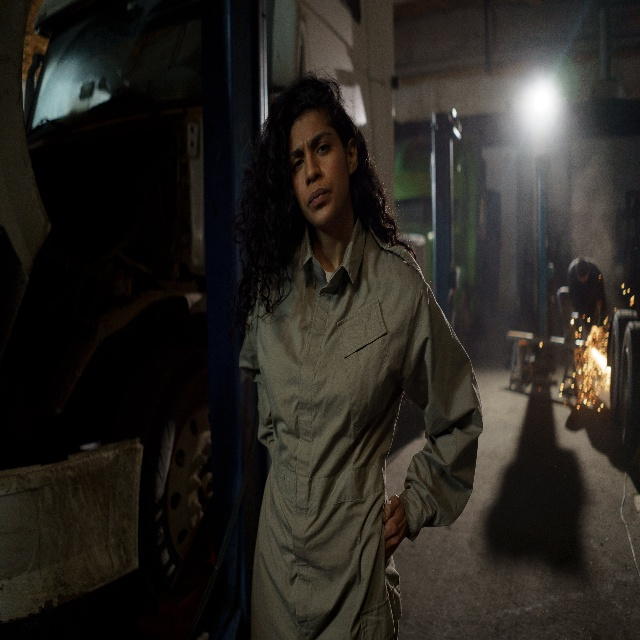Sin_guantes: (382, 494, 409, 564)
